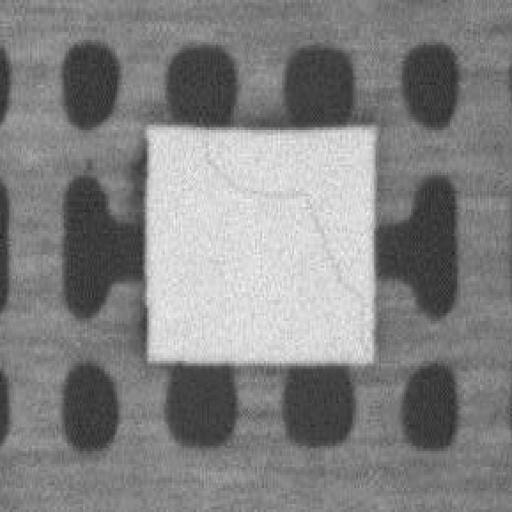DIE_CRACK: (200, 144, 362, 302)
